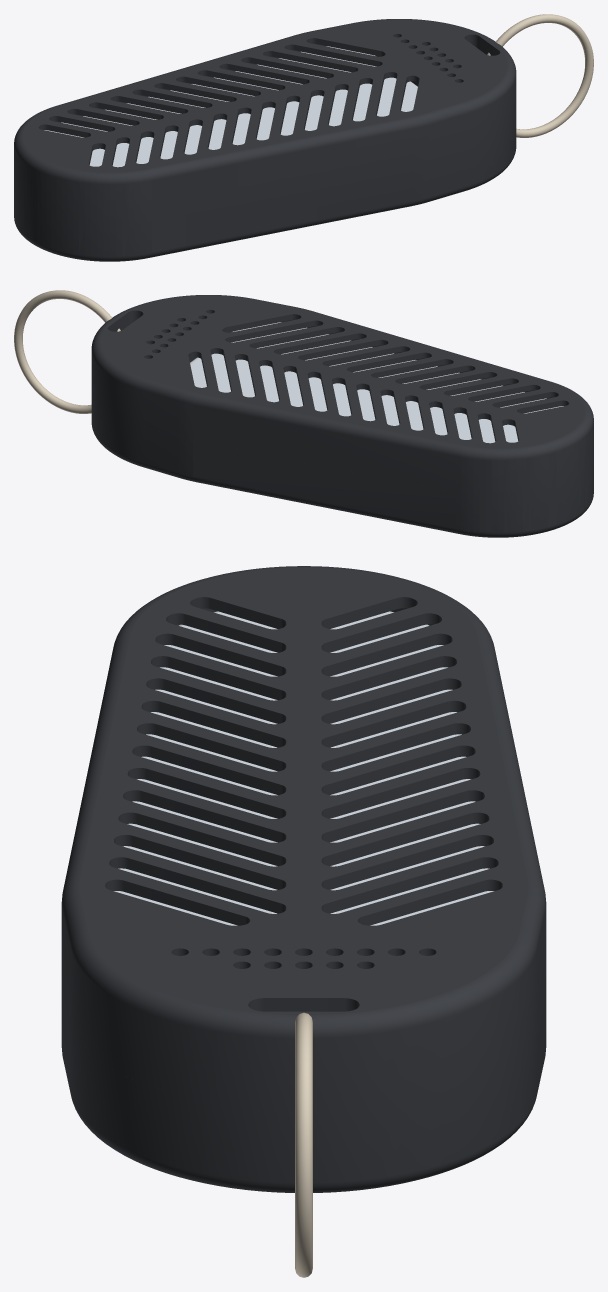
File: solefresh_v3_2_L_assembled.glb
3 views of the same model, one above another, from view 1: azimuth 30°, elevation 25°; view 2: azimuth 150°, elevation 25°; view 3: azimuth 270°, elevation 25° (orthographic). The views are drawn at different scales.
Parts seen in each view (by area): view 1: shell_top, shell_bottom, silica_sachet, pull_cord; view 2: shell_top, shell_bottom, silica_sachet, pull_cord; view 3: shell_top, shell_bottom, silica_sachet, pull_cord.
Part boxes in pixels (x1,y1,x2,y2): shell_top: (14, 19, 516, 220); shell_bottom: (14, 55, 516, 261); silica_sachet: (44, 46, 417, 167); pull_cord: (487, 14, 593, 137); shell_top: (91, 295, 593, 496); shell_bottom: (91, 331, 593, 537); silica_sachet: (190, 322, 563, 443); pull_cord: (14, 290, 120, 413); shell_top: (61, 566, 546, 1110); shell_bottom: (61, 976, 546, 1192); silica_sachet: (114, 611, 493, 925); pull_cord: (295, 1012, 312, 1277).
Bounding box in the file's own units: 0.148 × 0.03 × 0.0548.
